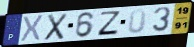0: (127, 8, 148, 35)
3: (151, 7, 172, 33)
6: (75, 11, 96, 39)
X: (43, 12, 69, 42), (19, 14, 45, 43)
Z: (96, 10, 122, 37)
